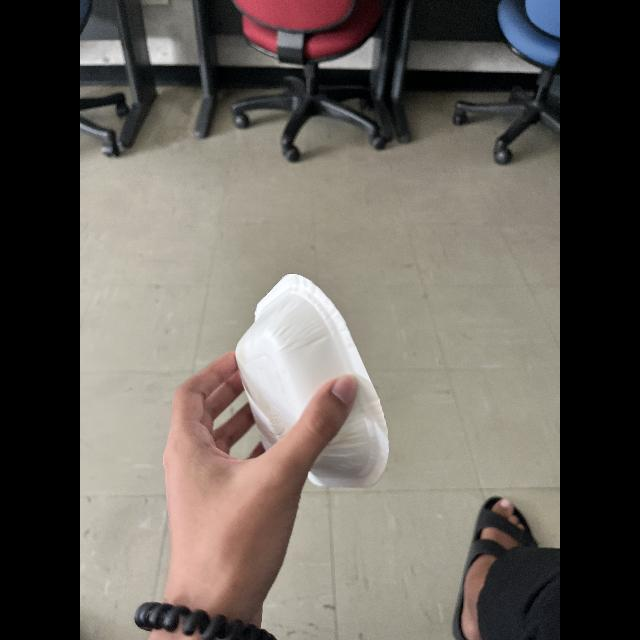cardboard_bowl: (223, 268, 399, 502)
